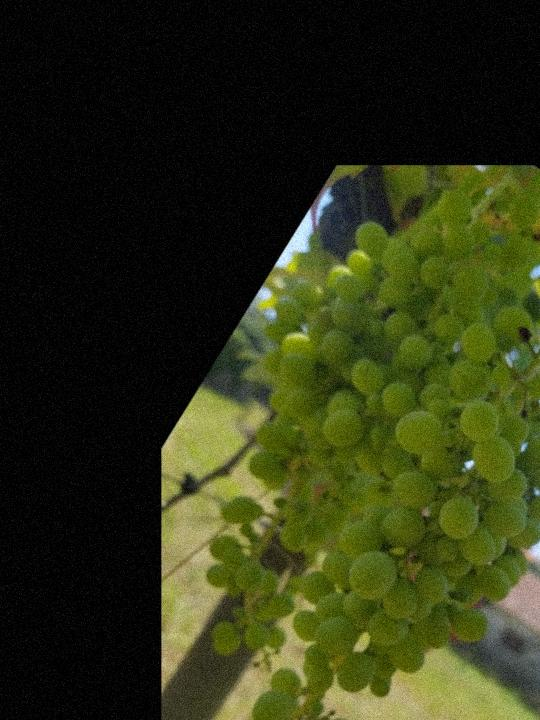grape: (58, 111, 540, 720)
